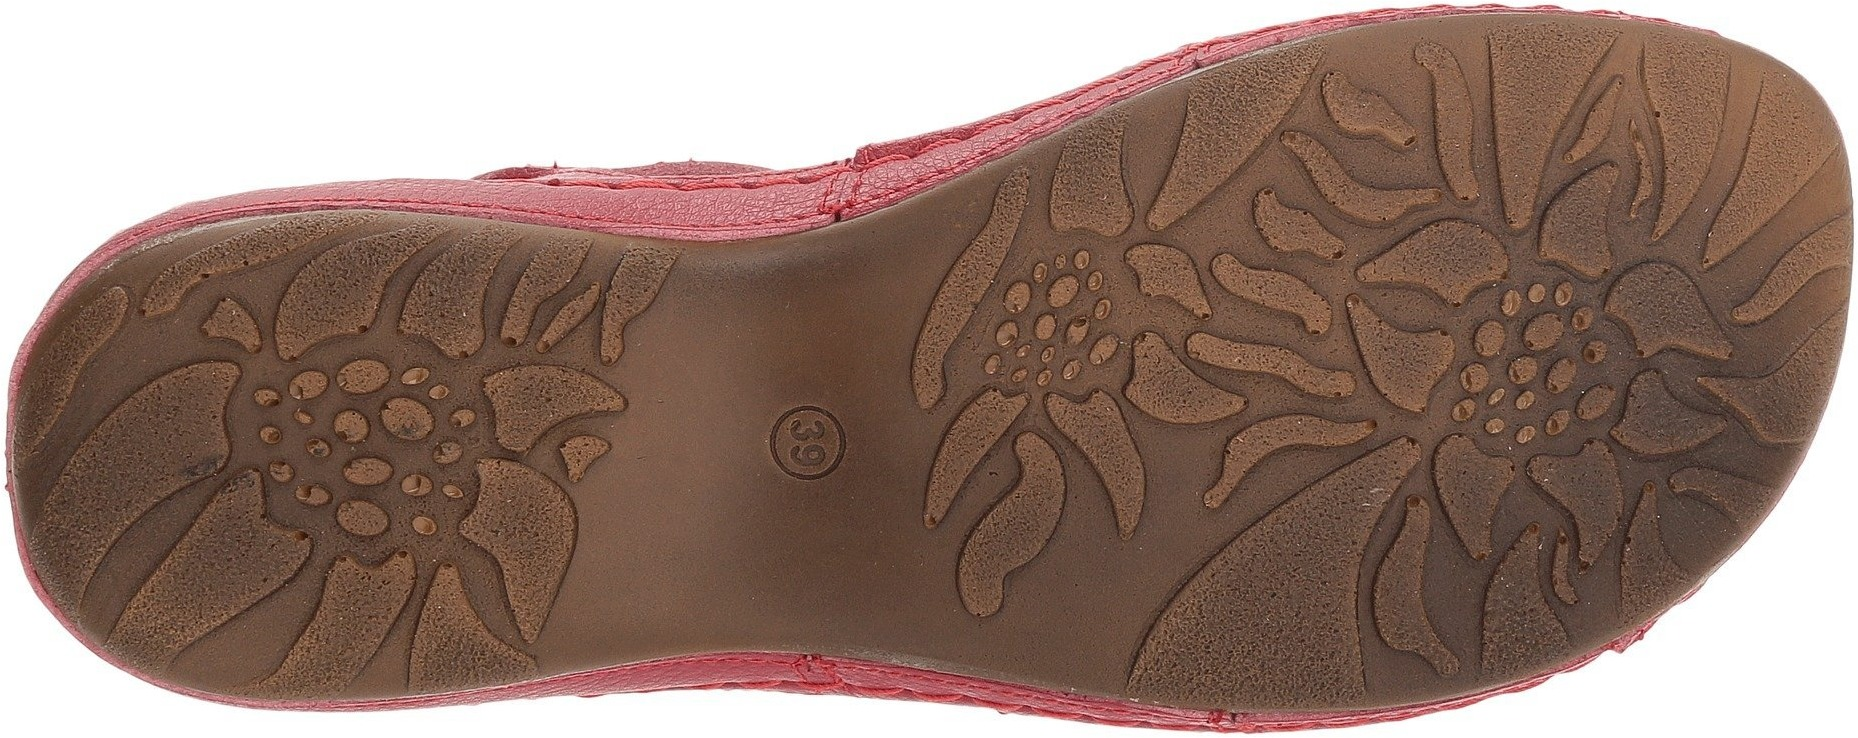circle: (256, 345, 474, 548), (1457, 289, 1625, 447), (973, 246, 1126, 394), (765, 397, 856, 484)
line: (1161, 186, 1388, 405)
other: (592, 483, 761, 648), (696, 250, 858, 394), (1202, 557, 1352, 702), (775, 498, 912, 633), (1021, 565, 1138, 676), (136, 387, 219, 464), (181, 539, 252, 605), (302, 259, 371, 327)
text: (781, 413, 835, 467)
triangle: (1475, 36, 1728, 277), (1427, 453, 1629, 635)
